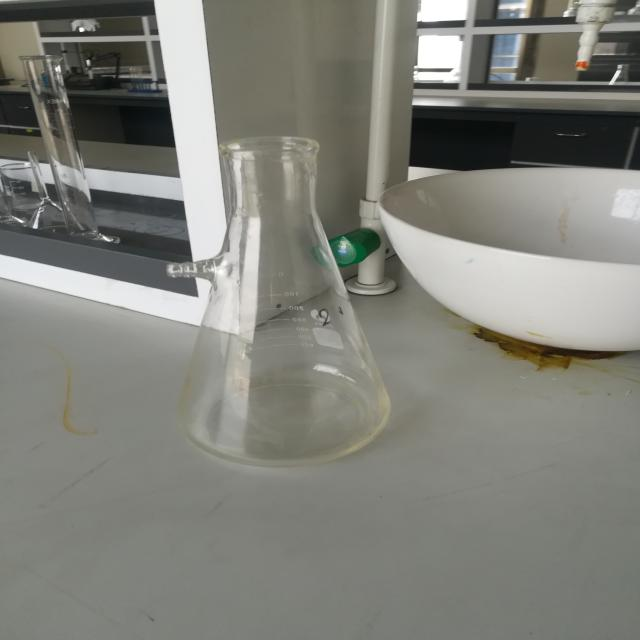Conical_Flask: (110, 136, 437, 485)
